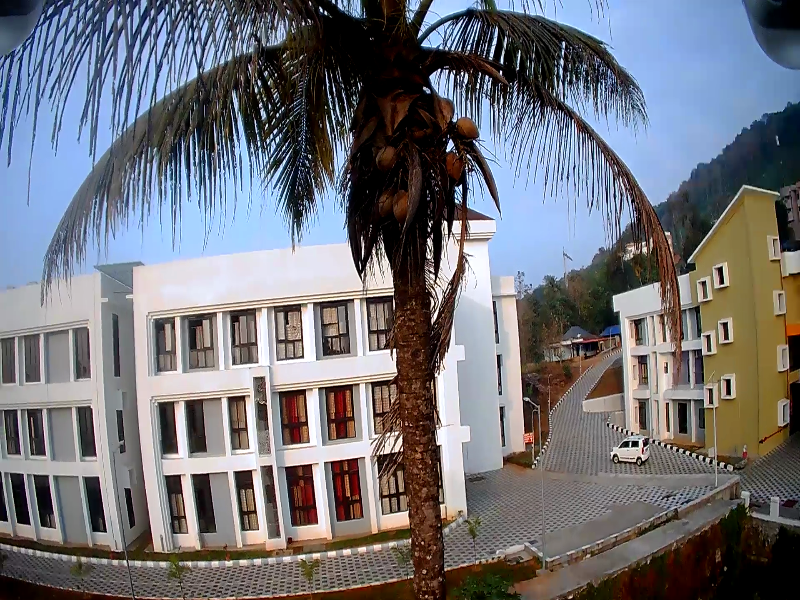coconut: (388, 179, 408, 218), (455, 117, 481, 144), (373, 143, 396, 168), (438, 151, 457, 180), (374, 186, 390, 213)
